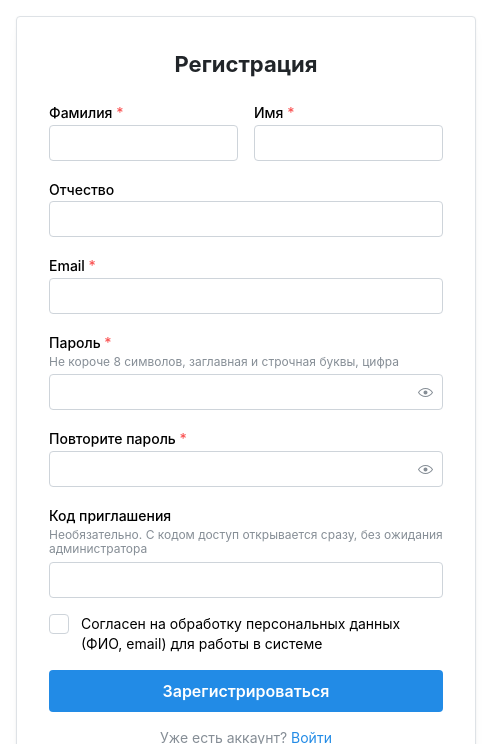
Test: RegisterPage › пароли не совпадают → ошибка, запрос не уходит
The image size is (493, 744).
In the field labelled "Фамилия *": point(144, 143) [49,125,238,161], type "Петров"
In the field labelled "Имя *": point(348, 143) [254,125,443,161], type "Иван"
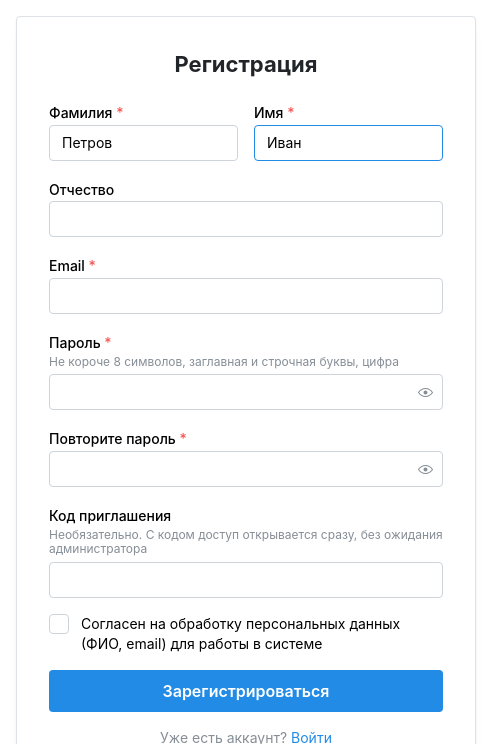
In the field labelled "Email *": point(246, 296) [49,278,443,314], type "ivan@scoodle.local"
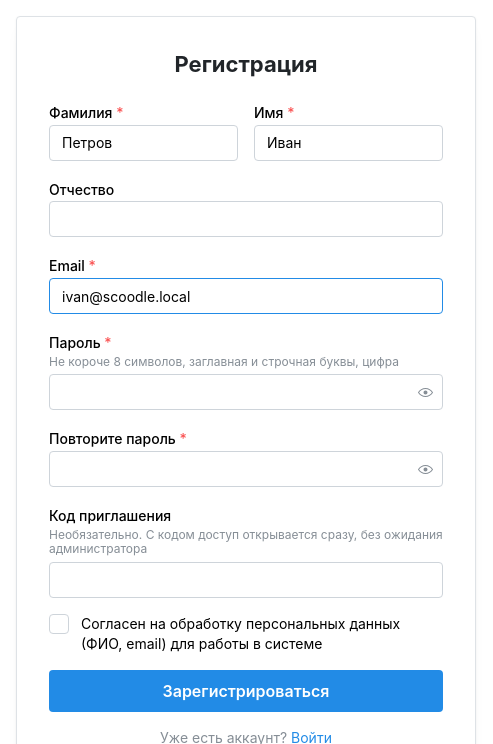
In the password field labelled "Пароль *": point(246, 392) [50,375,442,409], type "Password1"
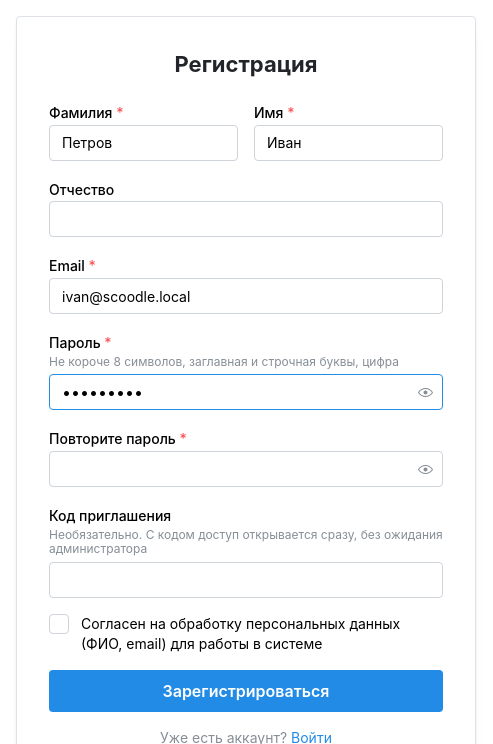
In the password field labelled "Повторите пароль *": point(246, 469) [50,452,442,486], type "Different1"
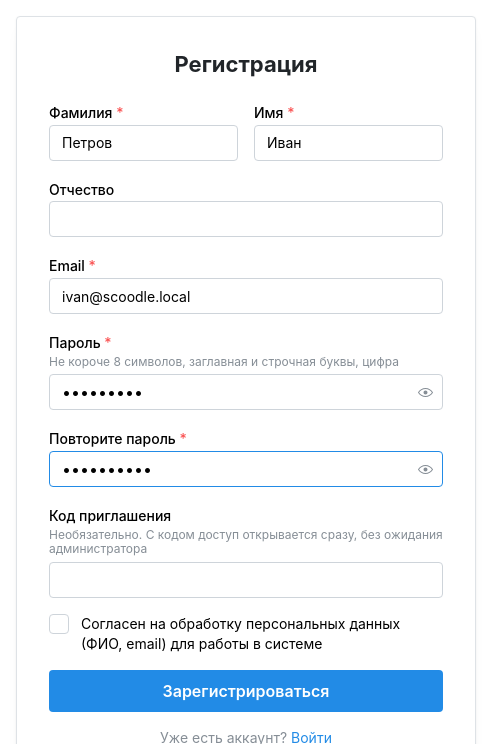
Click the checkbox: point(59, 624) [49,614,69,634]
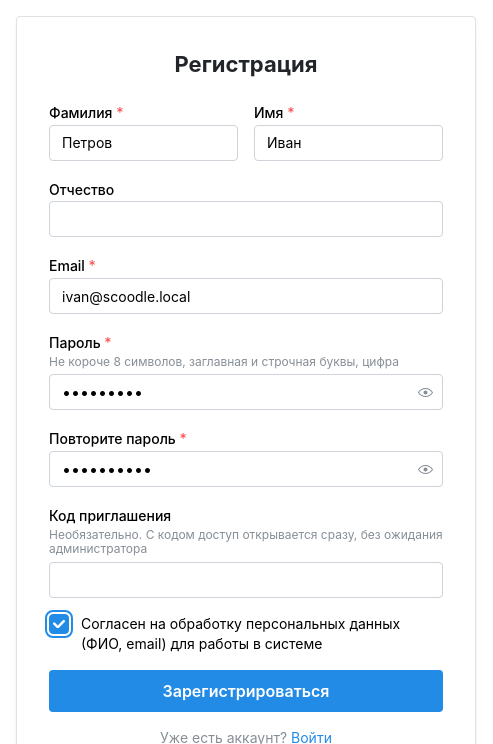
Click the button "Зарегистрироваться": point(246, 691) [49,670,443,712]
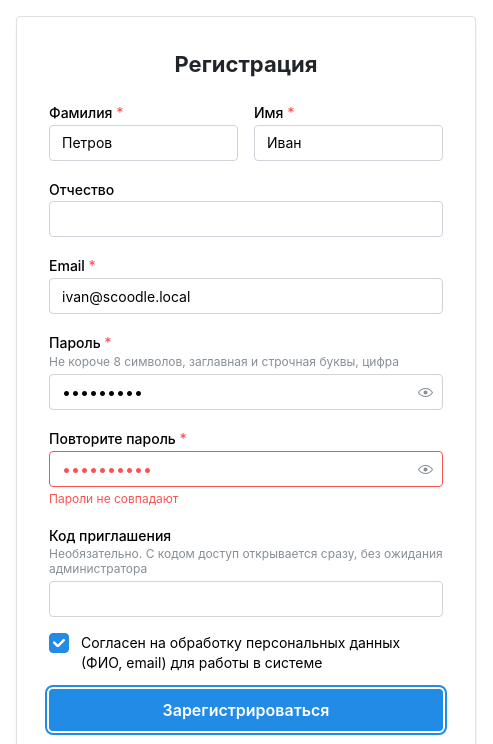
Now the text "Пароли не совпадают" is shown, box [49,491,178,506]
